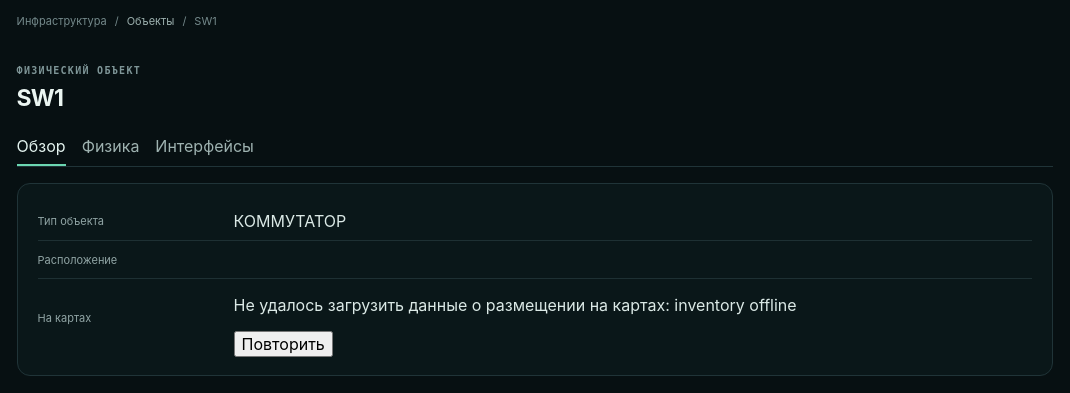
Scenario: InfrastructureObjectDetailPage Saved Map membership › keeps Object Detail visible when inventory loading fails and retries only inventory
Expected: the heading "SW1" is shown, [17,84,63,112]
Expected: the message reads "Не удалось загрузить данные о размещении на картах: inventory offline", [234,295,797,315]
Click the button "Повторить": (283, 344) [234,331,333,357]
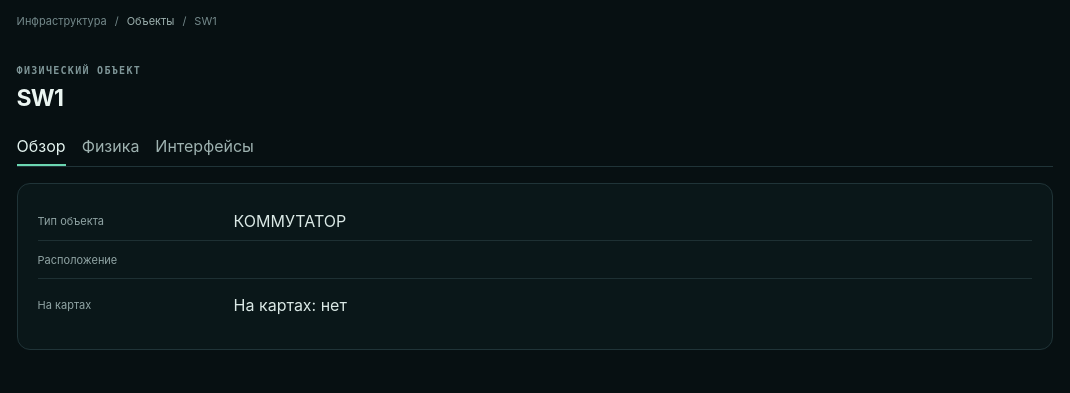
Result: the text "На картах: нет" is shown at [234,295,347,315]
